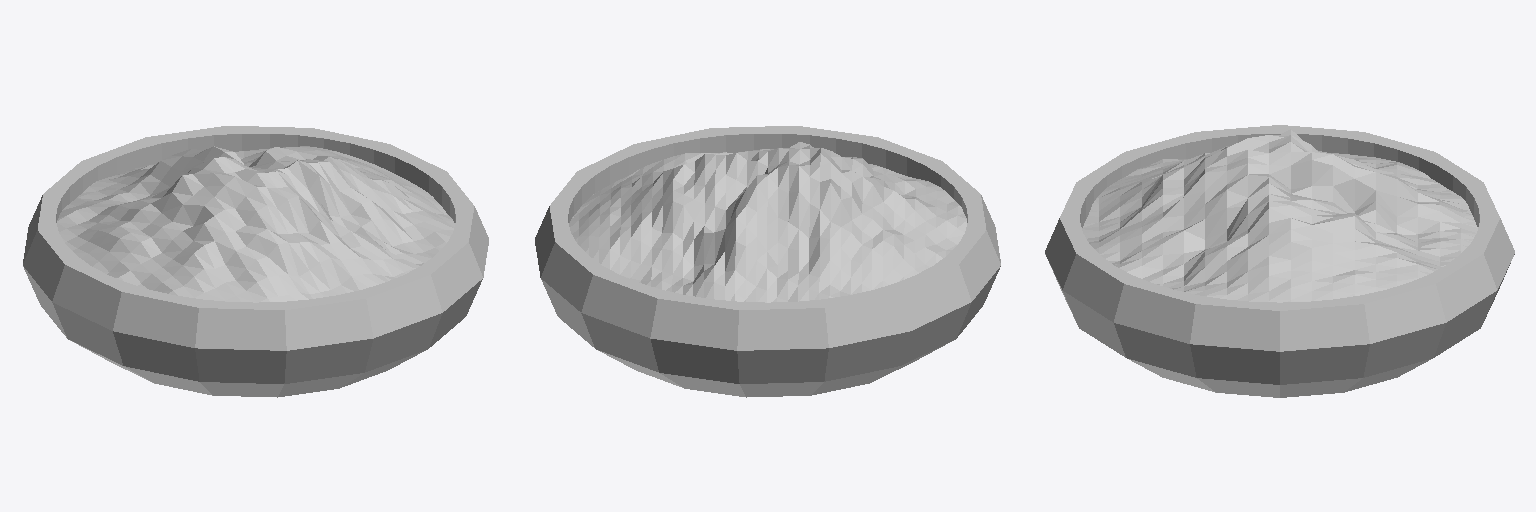
Rendered from guac.obj.
3 views of the same model, side by side, from view 1: azimuth 30°, elevation 25°; view 2: azimuth 150°, elevation 25°; view 3: azimuth 270°, elevation 25° (orthographic).
Parts seen in each view (by area): view 1: bowl, guac; view 2: bowl, guac; view 3: bowl, guac.
Part boxes in pixels (left/top/right/bottom): bowl: left=23, top=126, right=488, bottom=397; guac: left=57, top=146, right=454, bottom=302; bowl: left=535, top=126, right=1000, bottom=397; guac: left=569, top=142, right=966, bottom=302; bowl: left=1045, top=125, right=1514, bottom=397; guac: left=1082, top=129, right=1477, bottom=302.
Bounding box in the file's own units: 200 × 96.52 × 200.